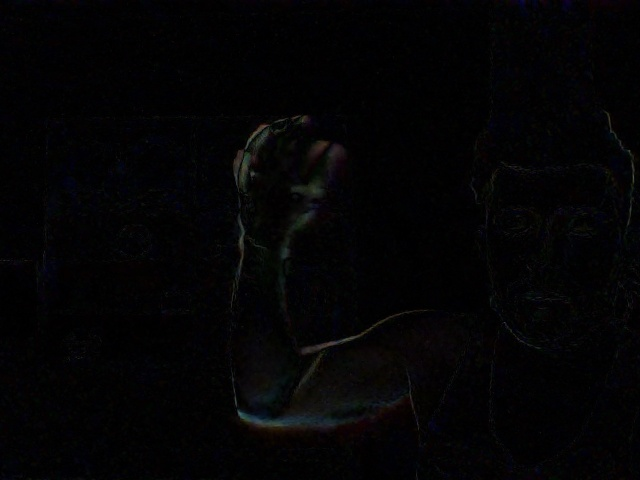arm_fo: (213, 107, 340, 401)
